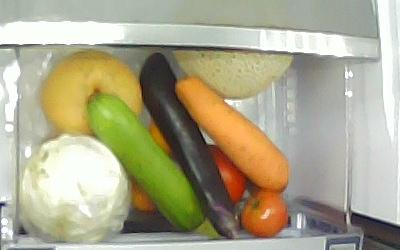cabbage: (17, 132, 132, 242)
carrot: (173, 74, 289, 190)
eggplant: (138, 51, 241, 240)
melon: (169, 48, 294, 99)
pear: (40, 49, 143, 136)
prune: (239, 188, 288, 237)
tomato: (209, 144, 245, 203)
zucchini: (85, 92, 221, 238)
